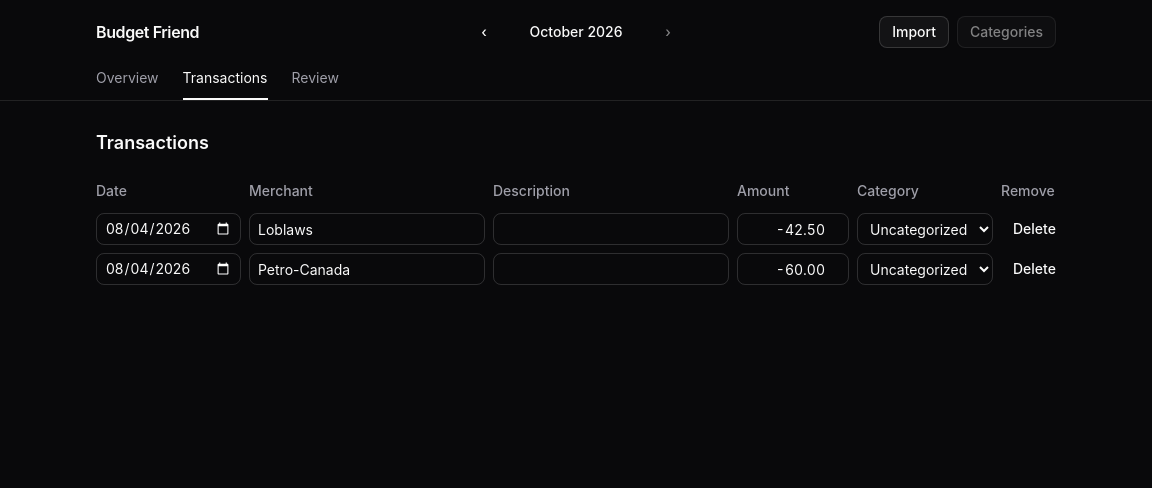
Test case: the overview total follows a row deleted in the transactions view
Check: the 1st field showing "Loblaws" is shown, box [249,213,485,245]
Click the 1st button "Delete". click: click(1034, 229)
box: [1001,213,1068,245]
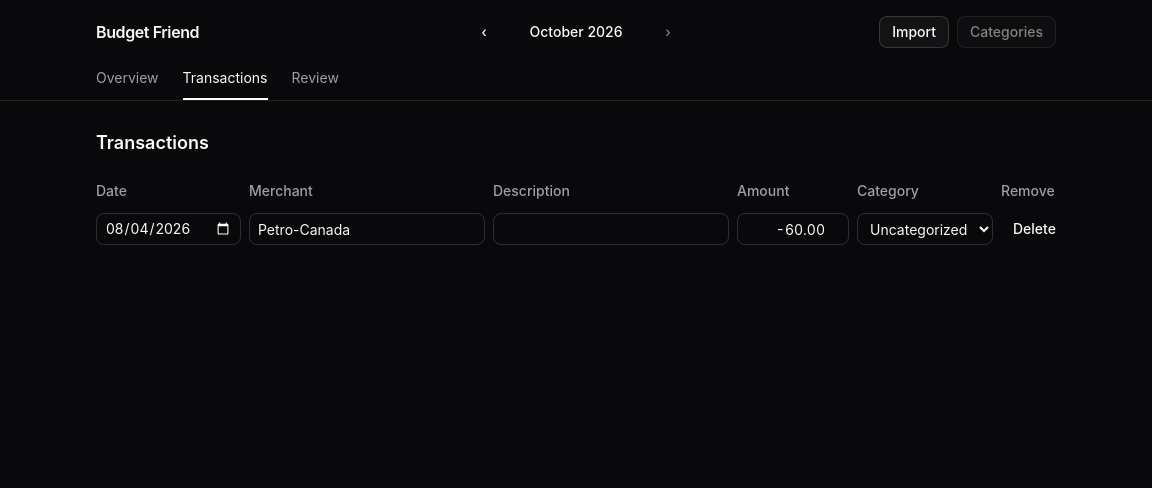
Check: the field showing "Loblaws" is not shown
Click the link "Overview". click: click(127, 78)
box: [96,69,159,86]
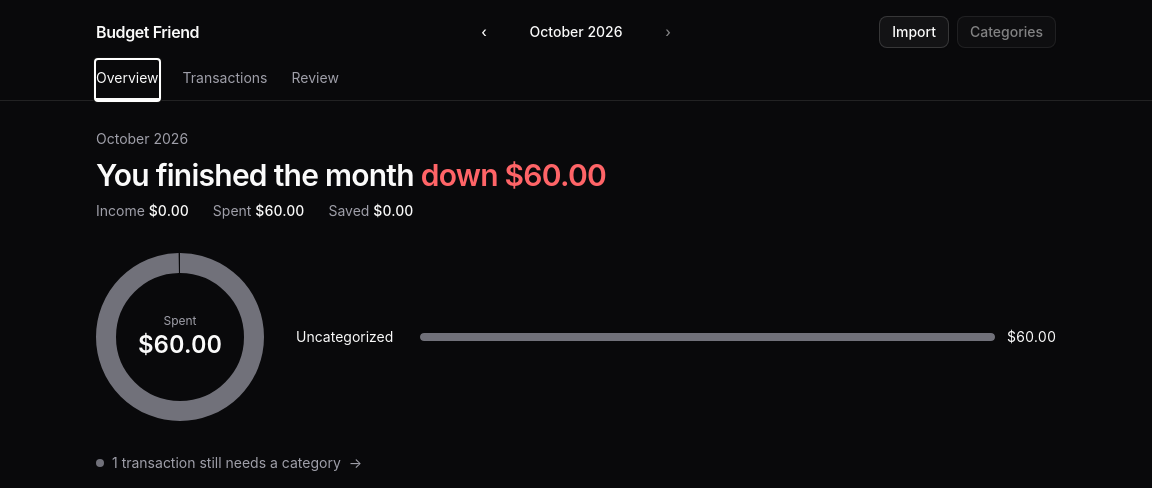
Check: the text "Spent $60.00" next to "Saved" is shown, box [255,202,304,219]
